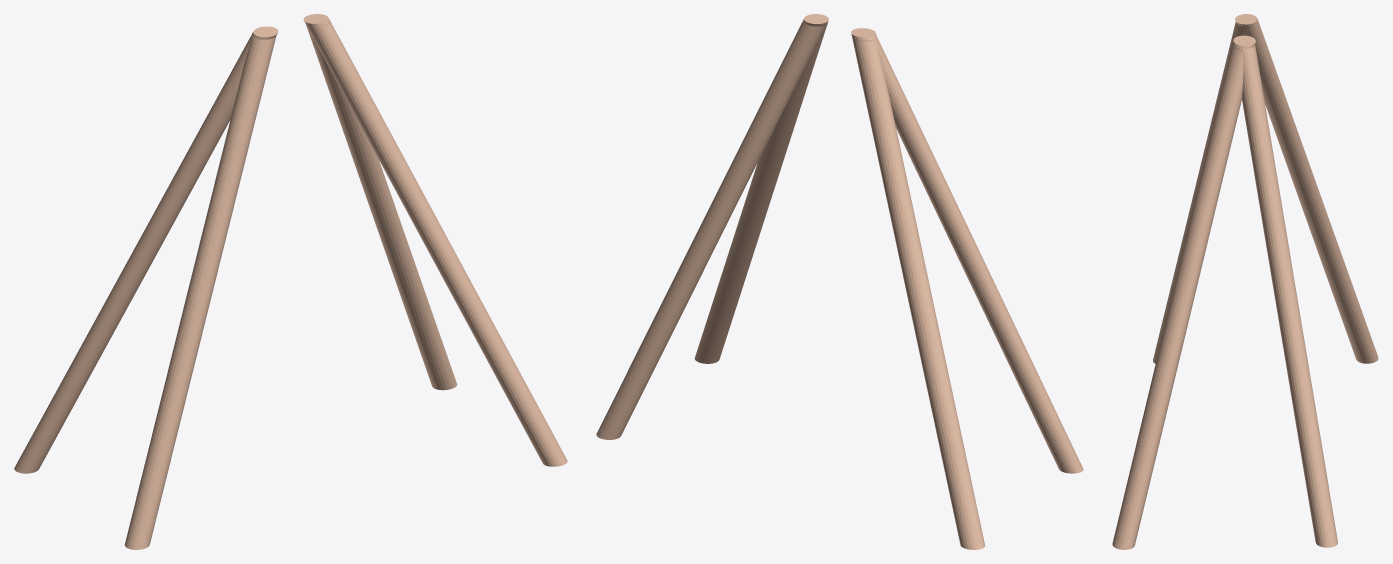
The model's file is karkas.glb.
3 views of the same model, side by side, from view 1: azimuth 30°, elevation 25°; view 2: azimuth 150°, elevation 25°; view 3: azimuth 270°, elevation 25° (orthographic). The views are drawn at different scales.
Visible parts, largest first — view 1: KARKAS; view 2: KARKAS; view 3: KARKAS.
Boxes of the visible parts, <box> form: KARKAS: <box>14,14,567,549</box>; KARKAS: <box>596,14,1083,549</box>; KARKAS: <box>1112,14,1378,549</box>.
Bounding box in the file's own units: 2.67 × 2.66 × 1.52.
